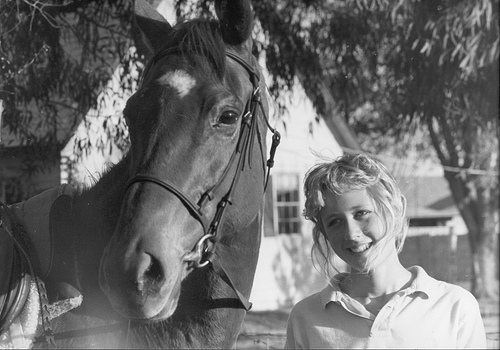without_mask: (311, 180, 405, 273)
